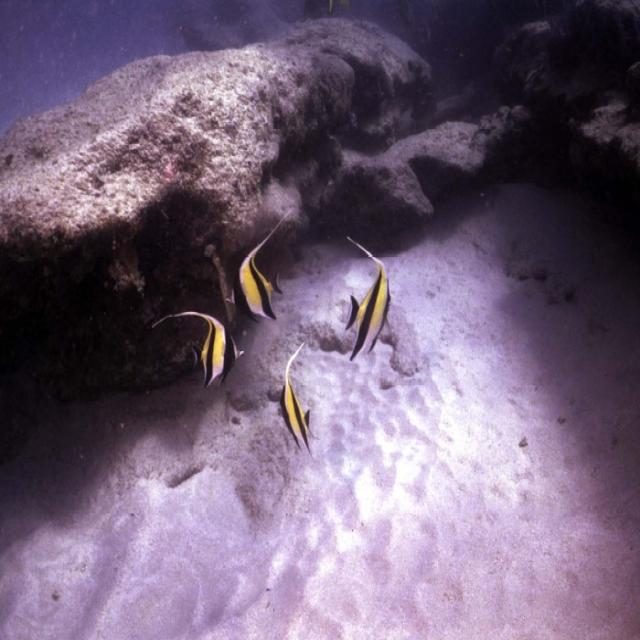MorishIdol: (224, 205, 295, 325), (149, 309, 245, 390), (342, 233, 392, 362), (278, 340, 315, 460)
